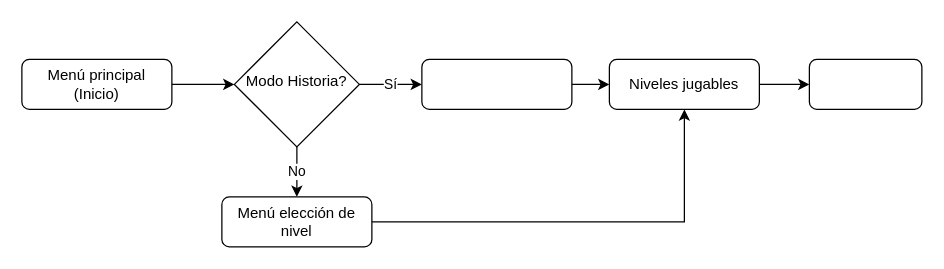
Image size: 944x269. Some labels were removed from this diagram. Each missing label, with the box of its shape:
Créditos: (808, 58, 922, 109)
Tutoriales: (421, 58, 572, 109)
